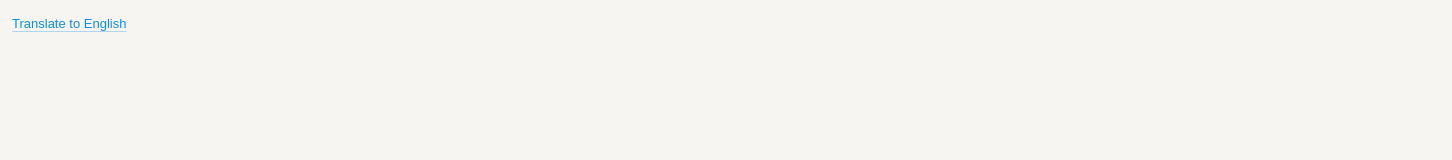
Test case: ContentTranslation › hide translation returns to the idle state
Step 1. Click the button "Translate to English" → (69, 24), box [12, 10, 126, 39]
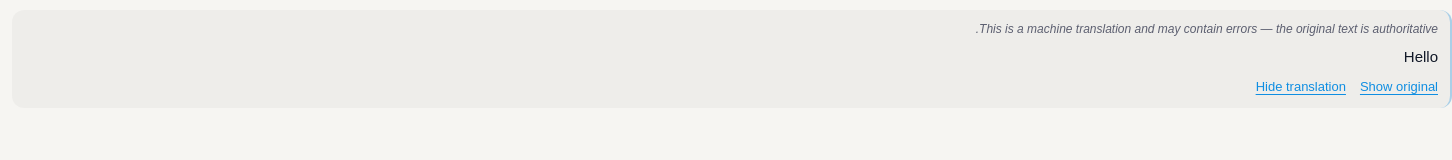
Expected: the text "Hello" is shown, [1404, 48, 1438, 65]
Step 2. Click the button "Hide translation" → (1301, 88), box [1256, 77, 1346, 98]
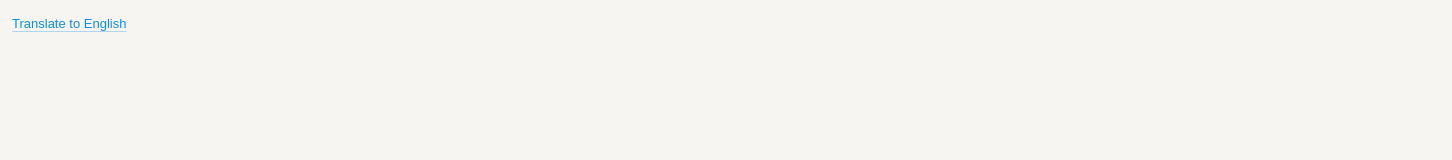
Expected: the text "Hello" is gone
Expected: the button "Translate to English" is shown, [12, 10, 126, 39]
